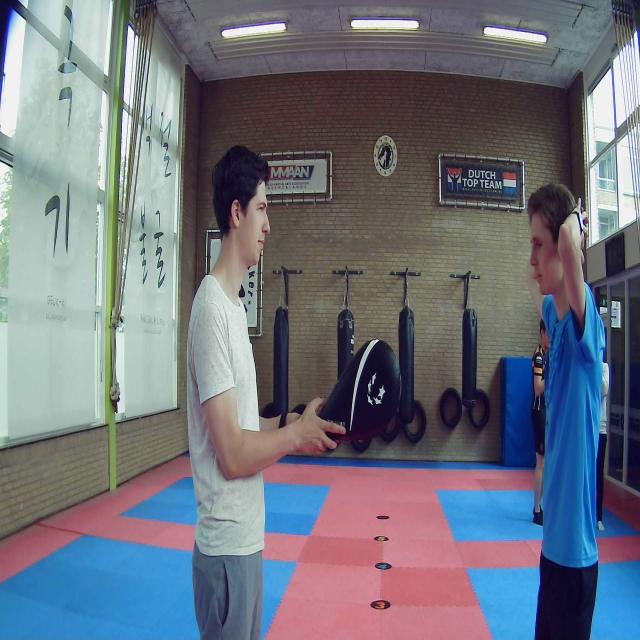paddle: (317, 338, 402, 442)
